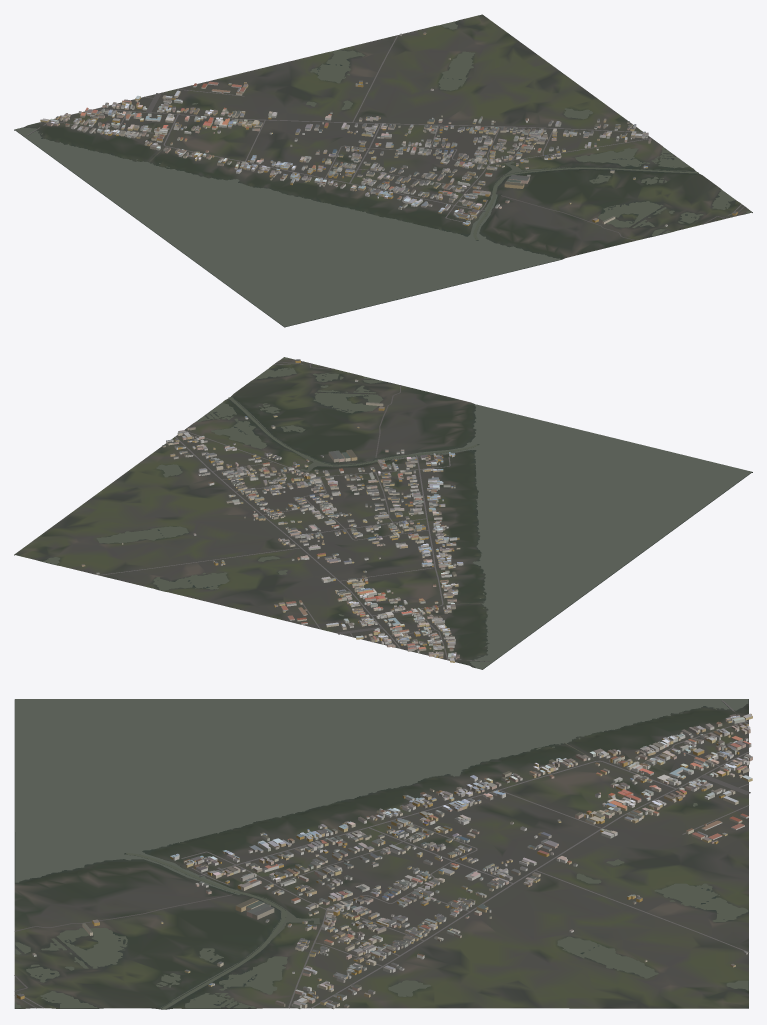
The picture shows the model from 3 angles, top to bottom: view 1: azimuth 30°, elevation 25°; view 2: azimuth 150°, elevation 25°; view 3: azimuth 270°, elevation 25°; orthographic projection. The views are drawn at different scales.
Visible parts, largest first — view 1: ground, water, buildings, roads; view 2: ground, water, buildings, roads; view 3: ground, water, buildings, roads.
Part boxes in pixels (<box>): ground: <box>14,14,752,327</box>; water: <box>15,21,751,326</box>; buildings: <box>40,32,737,226</box>; roads: <box>26,35,744,240</box>; ground: <box>14,357,752,669</box>; water: <box>42,357,751,669</box>; buildings: <box>81,359,463,662</box>; roads: <box>98,361,489,661</box>; ground: <box>14,699,748,1009</box>; water: <box>15,699,748,1009</box>; buildings: <box>16,713,752,1009</box>; roads: <box>14,700,750,1008</box>.
Bounding box in the file's own units: 1404 × 14.68 × 1409.
